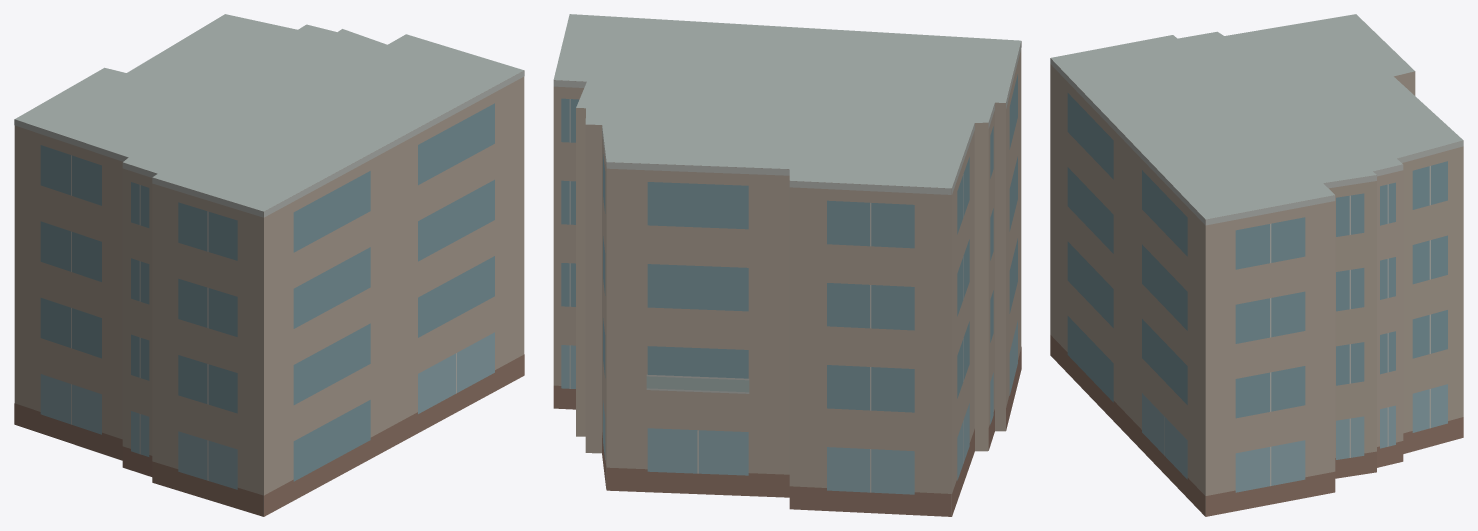
Rendered from survey-upis-32494106.glb.
The picture shows the model from 3 angles, left to right: view 1: azimuth 30°, elevation 25°; view 2: azimuth 150°, elevation 25°; view 3: azimuth 270°, elevation 25°; orthographic projection. The views are drawn at different scales.
Visible parts, largest first — view 1: survey-upis-32494106.tmp; view 2: survey-upis-32494106.tmp; view 3: survey-upis-32494106.tmp.
Part boxes in pixels (x1=…): survey-upis-32494106.tmp: x1=14, y1=14, x2=524, y2=516; survey-upis-32494106.tmp: x1=553, y1=14, x2=1021, y2=516; survey-upis-32494106.tmp: x1=1050, y1=14, x2=1463, y2=516.
Bounding box in the file's own units: 18.1 × 12.2 × 15.38.
